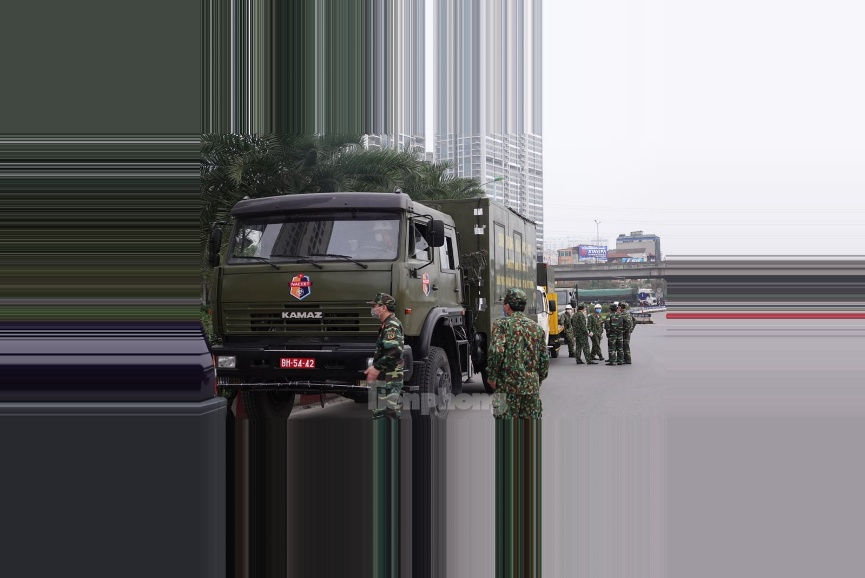plate: (277, 353, 321, 373)
